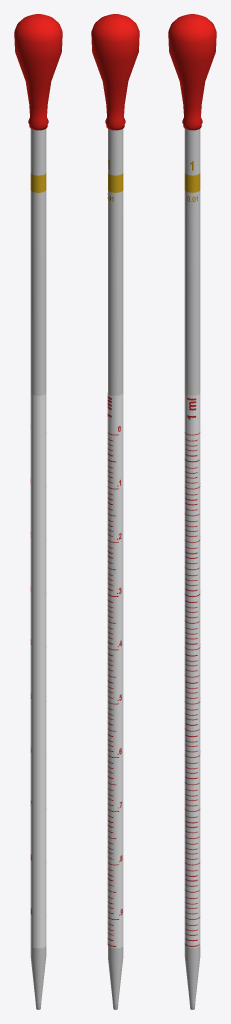
Rendered from alat_pipetUkur_1ml_syasya_01.fbx.
The picture shows the model from 3 angles, left to right: view 1: azimuth 90°, elevation 25°; view 2: azimuth 210°, elevation 25°; view 3: azimuth 270°, elevation 25°; orthographic projection.
Visible parts, largest first — view 1: pipetUkur_1ml, pipetUkur_1ml__rubberCap; view 2: pipetUkur_1ml, pipetUkur_1ml__rubberCap; view 3: pipetUkur_1ml, pipetUkur_1ml__rubberCap.
Boxes of the visible parts, left/top/right/bottom form: pipetUkur_1ml: left=30, top=129, right=46, bottom=1009; pipetUkur_1ml__rubberCap: left=14, top=14, right=62, bottom=130; pipetUkur_1ml: left=107, top=129, right=123, bottom=1009; pipetUkur_1ml__rubberCap: left=91, top=14, right=139, bottom=130; pipetUkur_1ml: left=184, top=129, right=200, bottom=1009; pipetUkur_1ml__rubberCap: left=168, top=14, right=216, bottom=130.
Size of the model in its own units: 1.34 by 30.25 by 1.34.
Materials: 4 (2 with a texture image).
